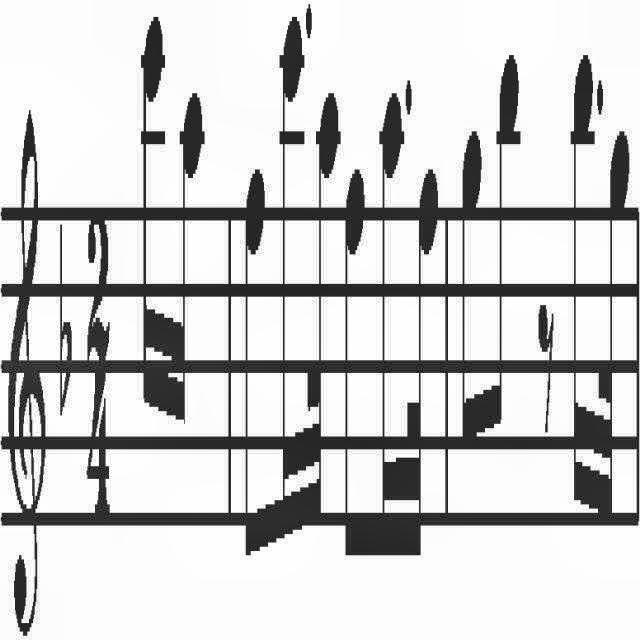Bass-clef: (0, 19, 48, 640)
Bemol: (52, 167, 78, 465)
Eighth-note: (234, 116, 270, 592), (489, 29, 527, 439), (452, 87, 484, 501), (342, 148, 370, 594)
Eighth-rest: (534, 276, 558, 456)
Sixteenth-note: (274, 1, 306, 556), (166, 68, 206, 468), (565, 16, 595, 528), (373, 78, 402, 560), (133, 0, 163, 432)
